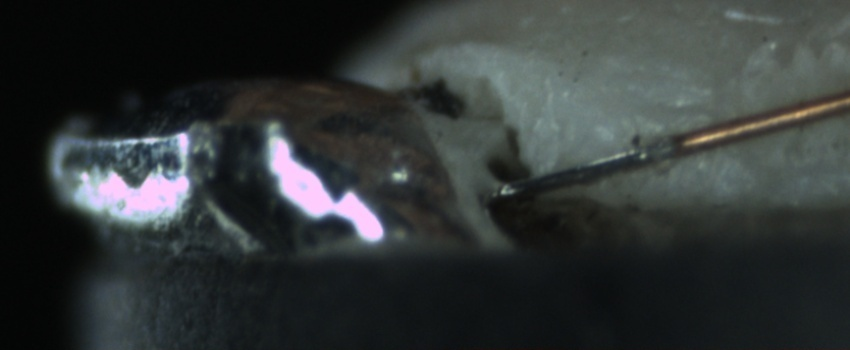DL: (550, 98, 720, 156)
TS: (490, 137, 683, 205)
TTCW: (494, 124, 722, 202)
